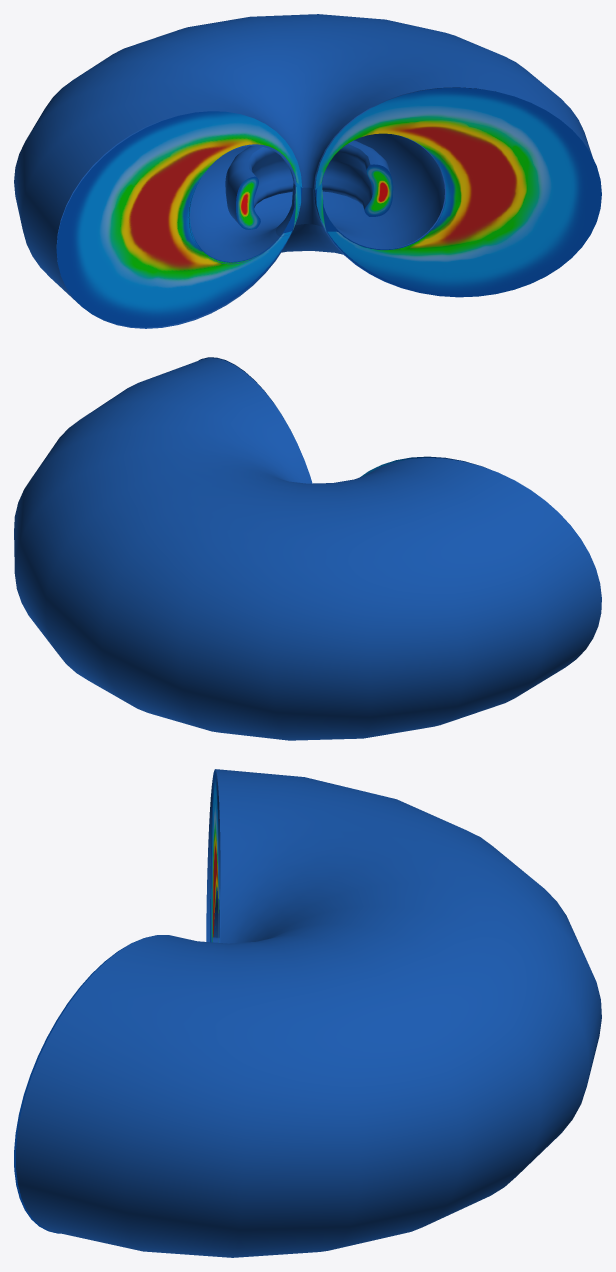
File: cinturaoallen.gltf
The picture shows the model from 3 angles, top to bottom: view 1: azimuth 30°, elevation 25°; view 2: azimuth 150°, elevation 25°; view 3: azimuth 270°, elevation 25°; orthographic projection. The views are drawn at different scales.
Parts seen in each view (by area): view 1: Curve, frente_grande1.001, frente_grande1, Curve.002, frente_pequena2, frente_pequena1; view 2: Curve; view 3: Curve, frente_grande1, frente_grande1.001.
Part boxes in pixels (x1=…): Curve: x1=14, y1=14, x2=592, y2=328; frente_grande1.001: x1=315, y1=87, x2=601, y2=297; frente_grande1: x1=56, y1=111, x2=302, y2=327; Curve.002: x1=225, y1=140, x2=390, y2=224; frente_pequena2: x1=364, y1=164, x2=393, y2=216; frente_pequena1: x1=236, y1=176, x2=260, y2=229; Curve: x1=14, y1=358, x2=601, y2=740; Curve: x1=16, y1=769, x2=601, y2=1257; frente_grande1: x1=210, y1=771, x2=218, y2=942; frente_grande1.001: x1=14, y1=938, x2=143, y2=1233.
Bounding box in the file's own units: 11.13 × 4.49 × 8.52.
Materials: 4 (3 with a texture image).
